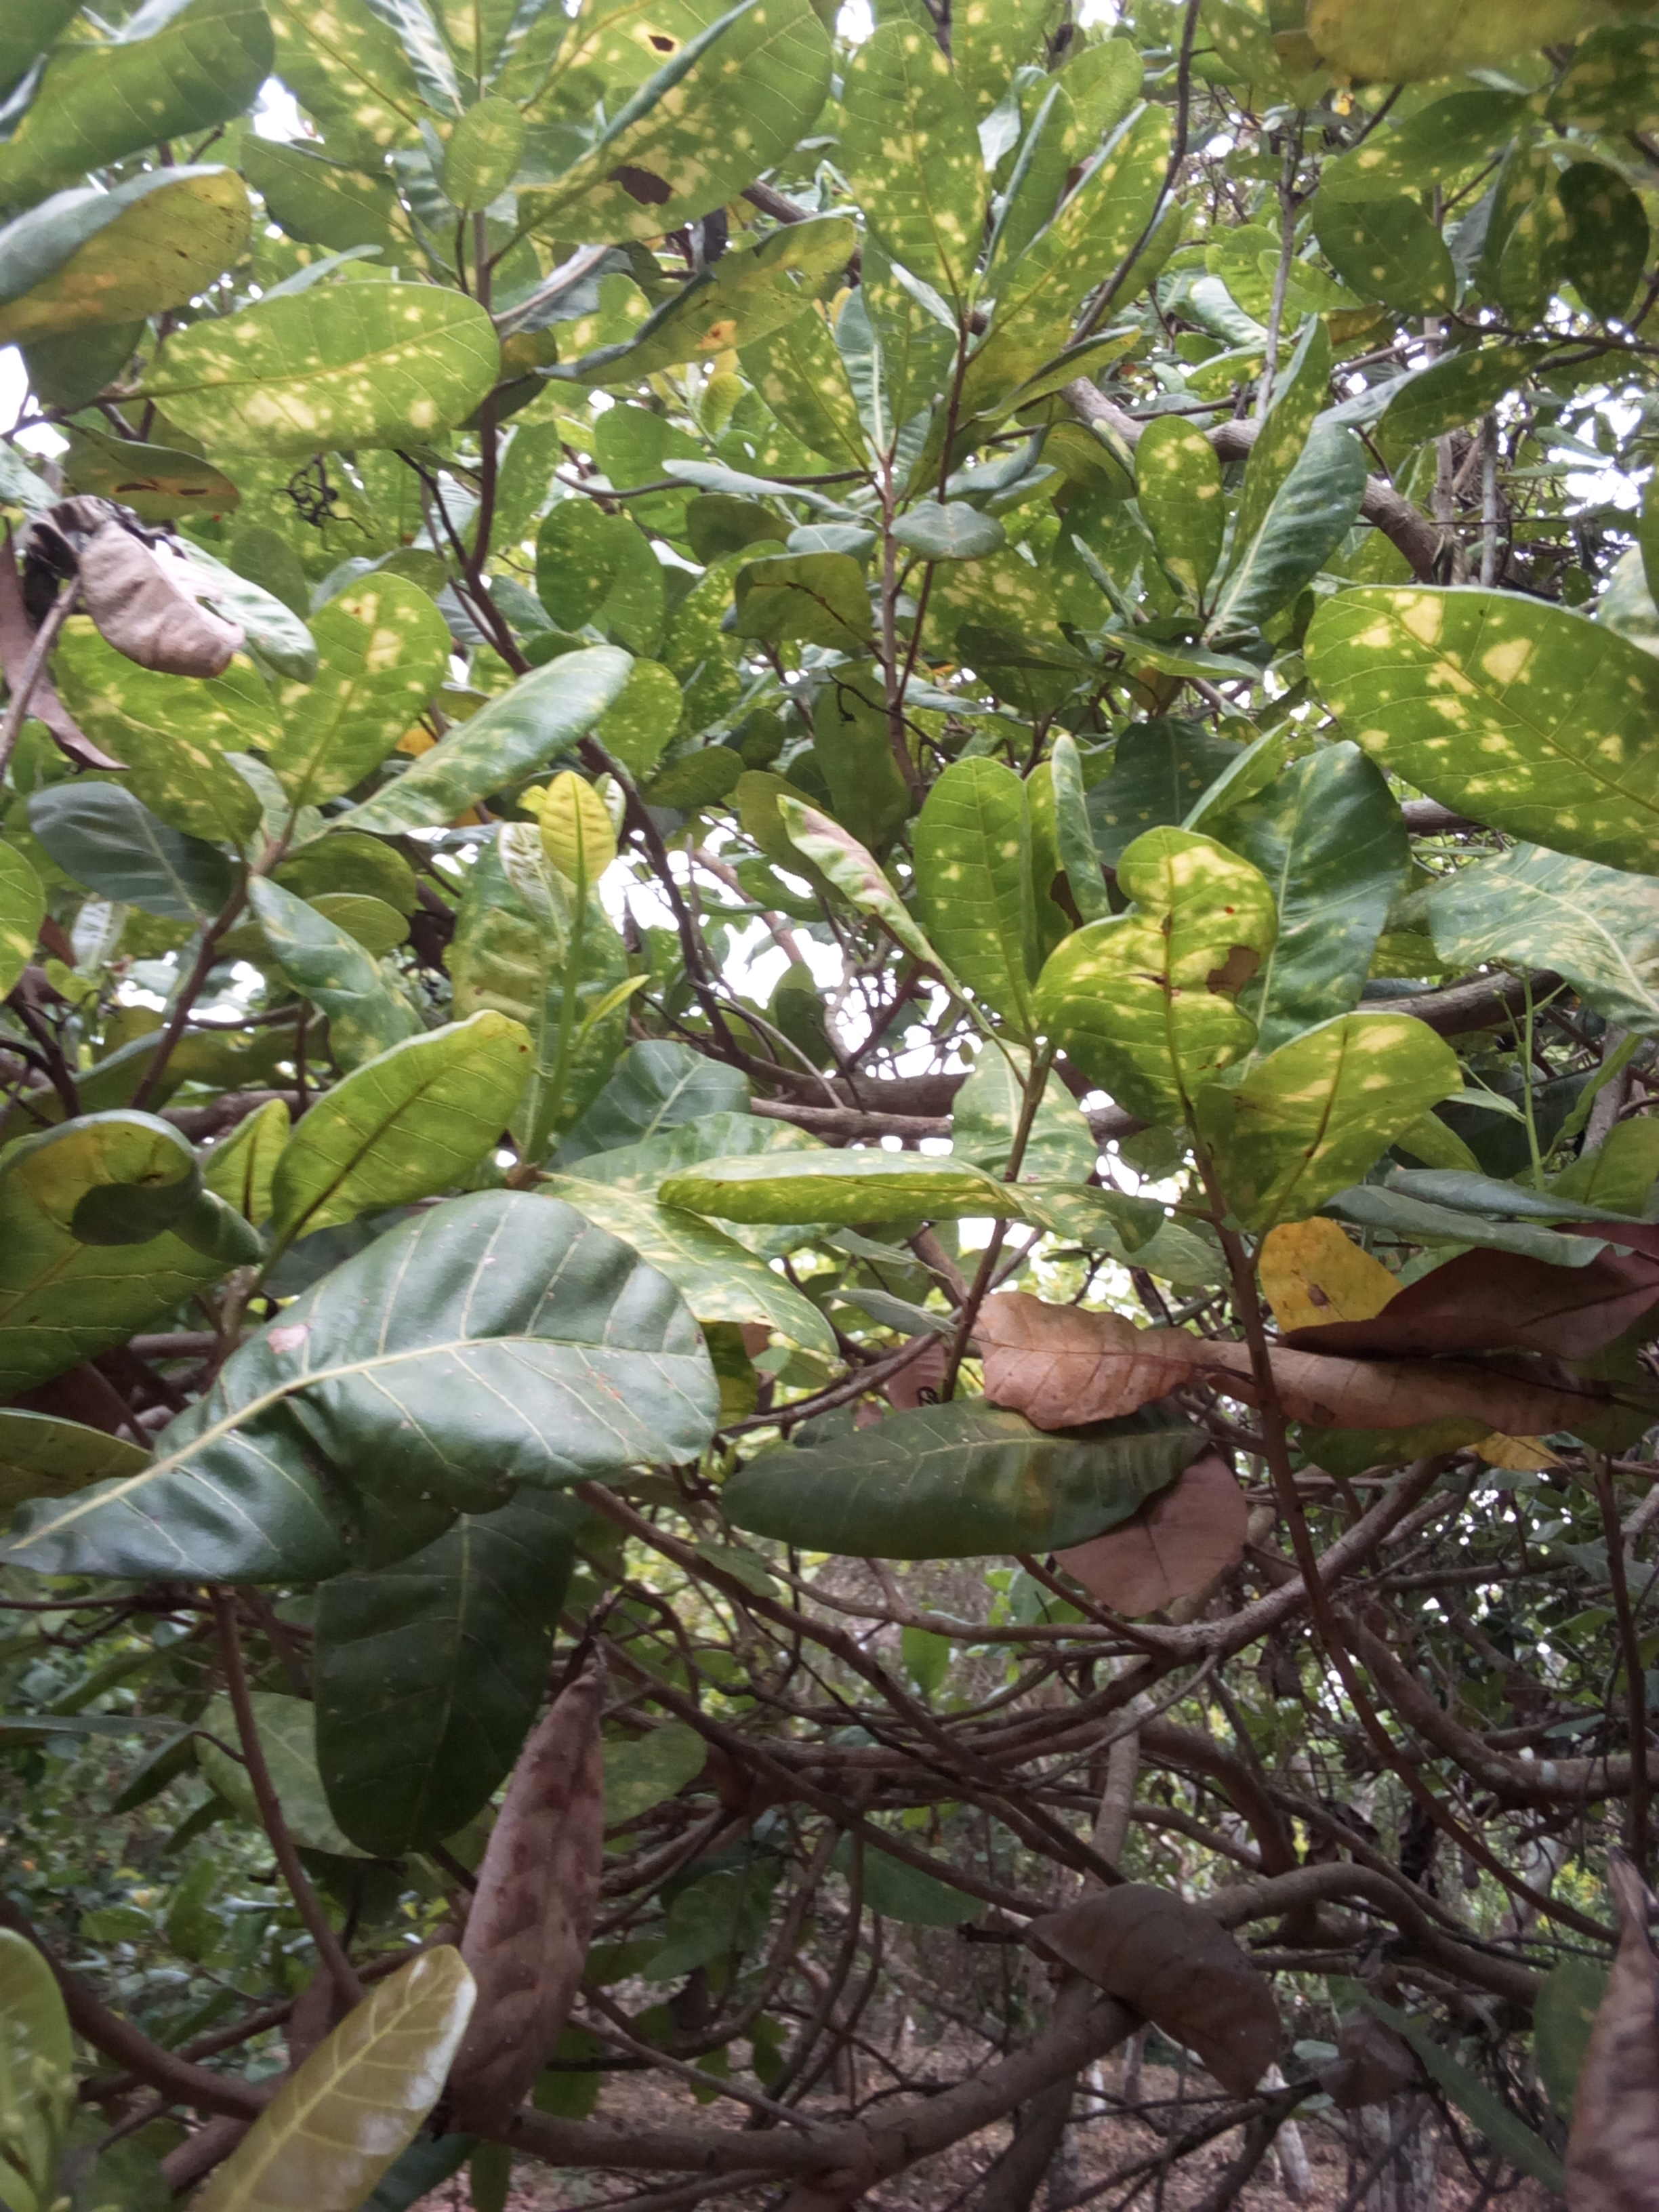Carence minérale: (920, 92, 1227, 493), (432, 5, 911, 256), (1284, 561, 1659, 866), (1037, 819, 1286, 1123), (270, 984, 552, 1235), (145, 275, 511, 469), (1229, 991, 1467, 1231), (894, 747, 1063, 1055), (291, 561, 481, 815), (653, 1139, 1040, 1252), (1293, 160, 1476, 340), (532, 493, 636, 641)
